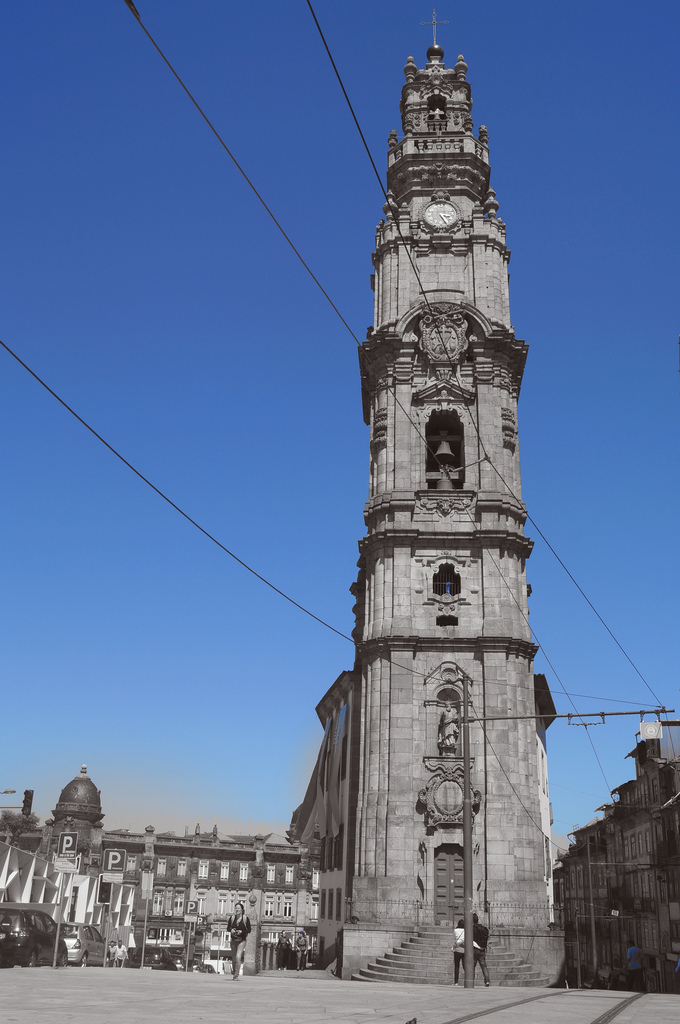clerigos: (348, 12, 552, 932)
